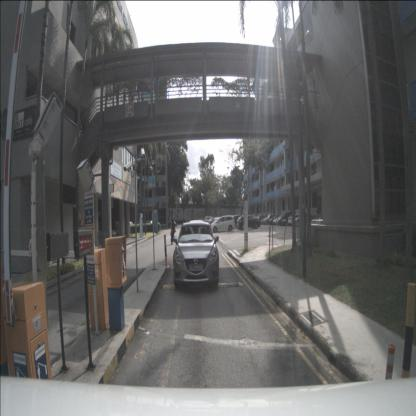human-pedestrian-adult: (170, 218, 176, 245)
movable_object-trafficcone: (385, 344, 395, 380)
vehicle-car: (173, 220, 219, 289), (209, 216, 235, 232), (236, 215, 261, 230), (273, 211, 297, 225), (282, 214, 298, 226), (288, 213, 300, 226), (264, 214, 275, 225), (257, 215, 270, 224)
